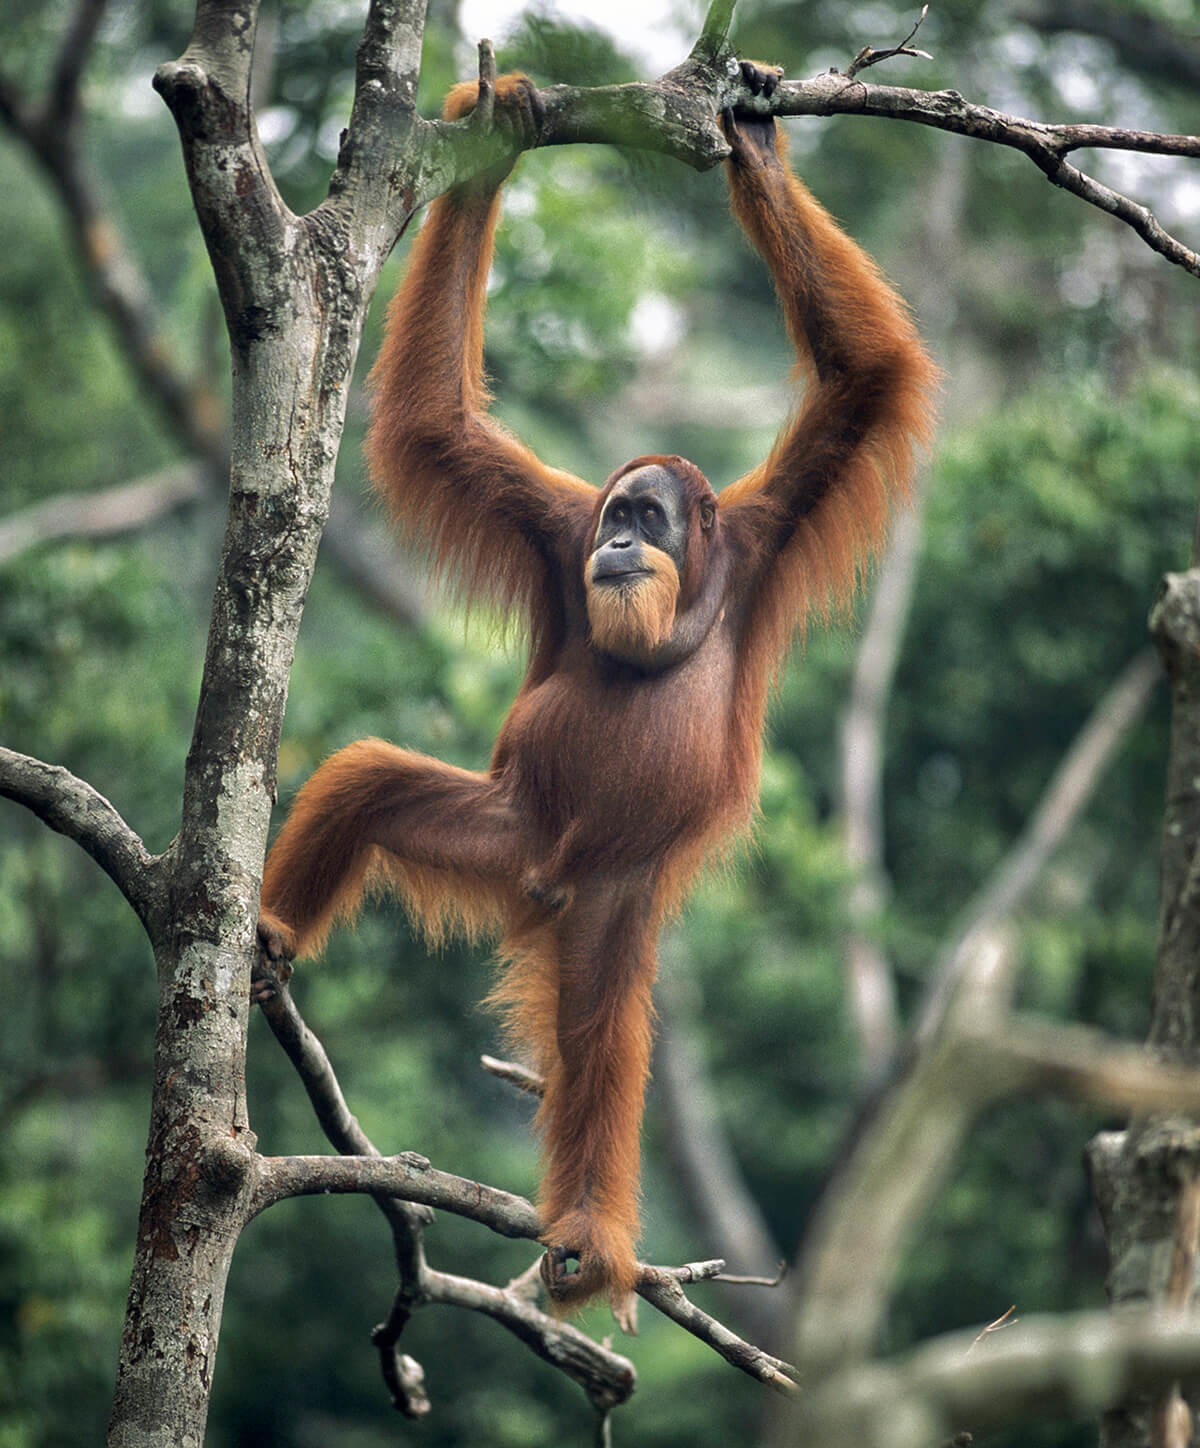ape: (256, 58, 946, 1340)
